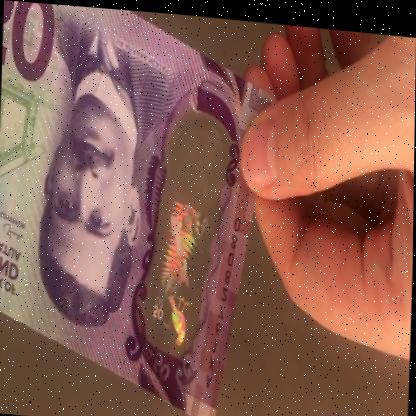50F: (151, 107, 223, 349)
